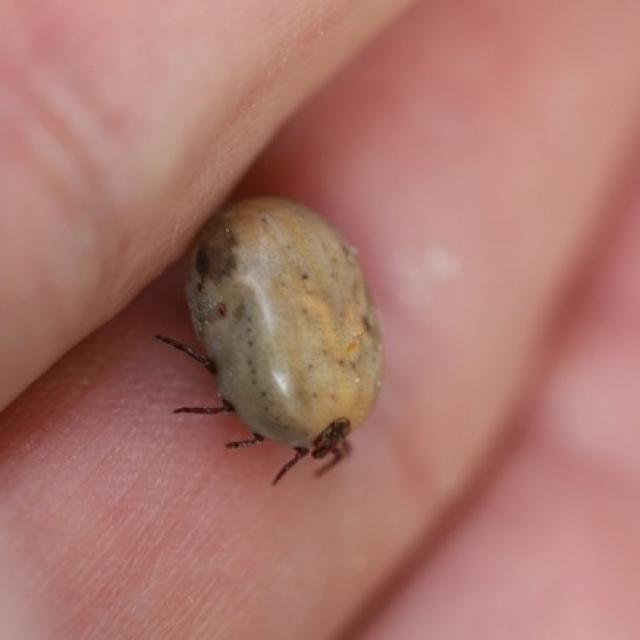Dermacentor Reticulatus-F-Fed: (156, 191, 386, 484)
